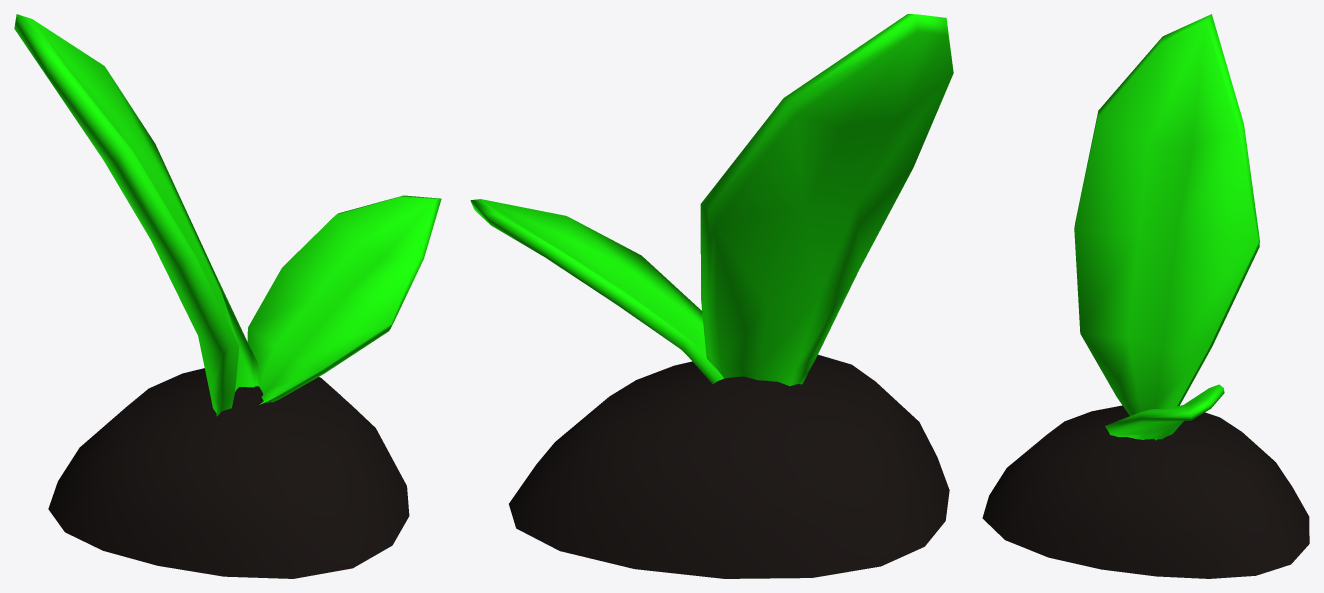
File: plant_seed.FBX
The picture shows the model from 3 angles, left to right: view 1: azimuth 30°, elevation 25°; view 2: azimuth 150°, elevation 25°; view 3: azimuth 270°, elevation 25°; orthographic projection. The views are drawn at different scales.
Parts seen in each view (by area): view 1: Cylinder002; view 2: Cylinder002; view 3: Cylinder002.
Boxes of the visible parts, x1,y1,x2,y2 form: Cylinder002: (14,14,441,578); Cylinder002: (470,14,953,578); Cylinder002: (982,14,1309,578).
Size of the model in its own units: 28.54 by 33.1 by 23.23.
